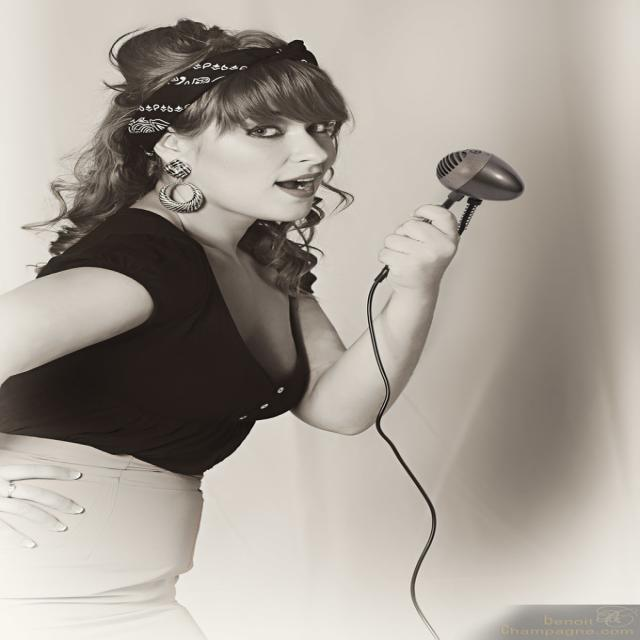dryer: (360, 133, 546, 413)
